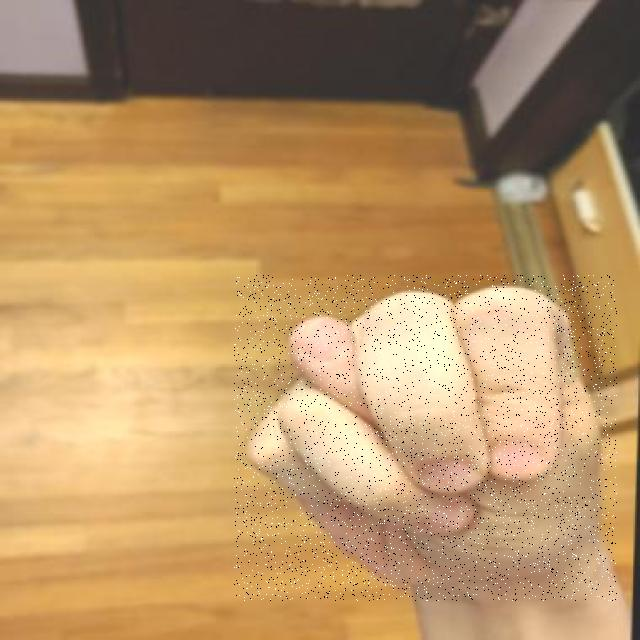N: (234, 275, 617, 601)
